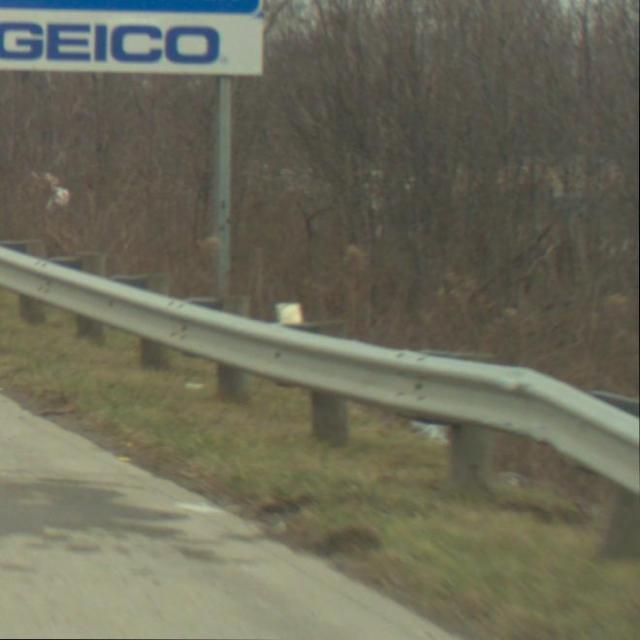Guard rail: (0, 227, 640, 574)
